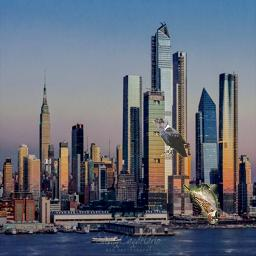Crow: (153, 117, 188, 157)
Sparrow: (183, 184, 218, 224)
